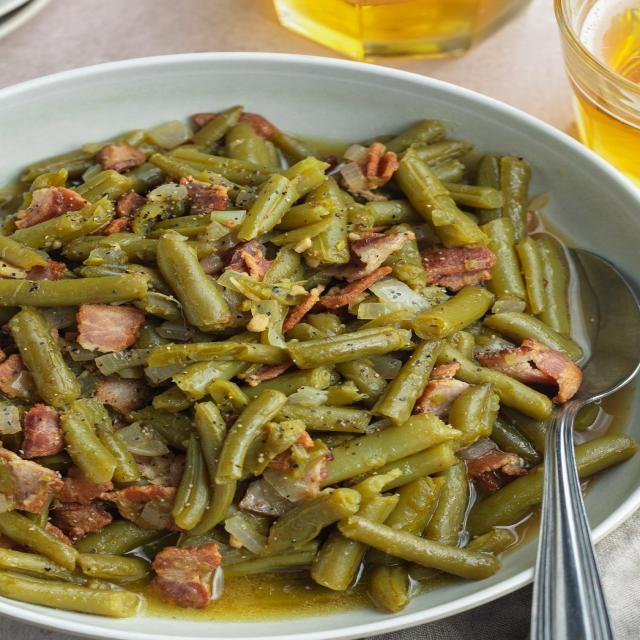Beans: (0, 100, 627, 633)
